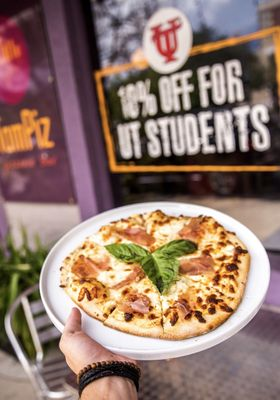sandwich: (59, 208, 250, 340)
